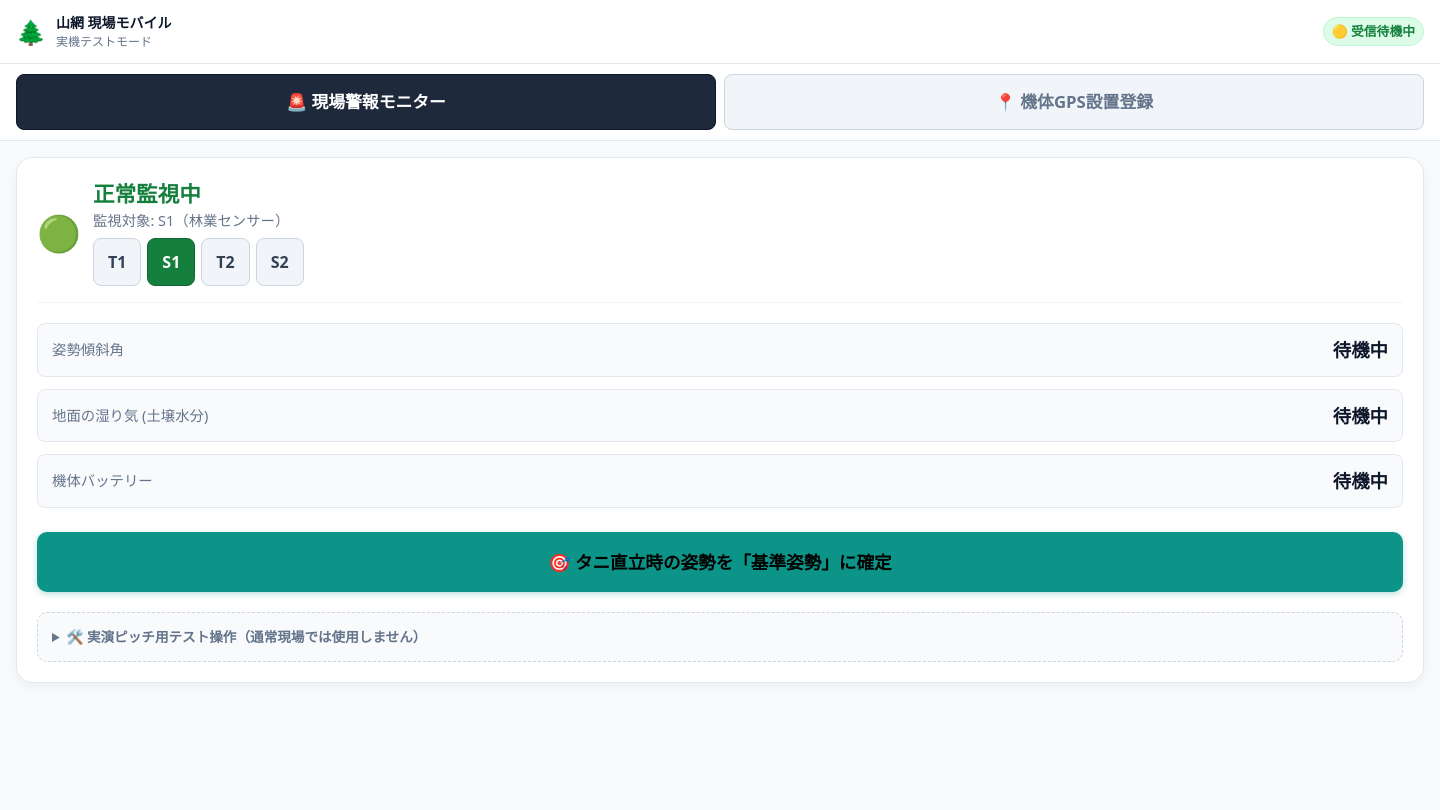
Scenario: MobileHome › 未受信の実機テストモード（S1）では架空の 3280 mV / 1420 ADC を表示せず、基準確定も拒否する (Issue #27)
Click the button "🎯 タニ直立時の姿勢を「基準姿勢」に確定". click: coordinates (720, 562)
box: x1=37 y1=532 x2=1403 y2=592
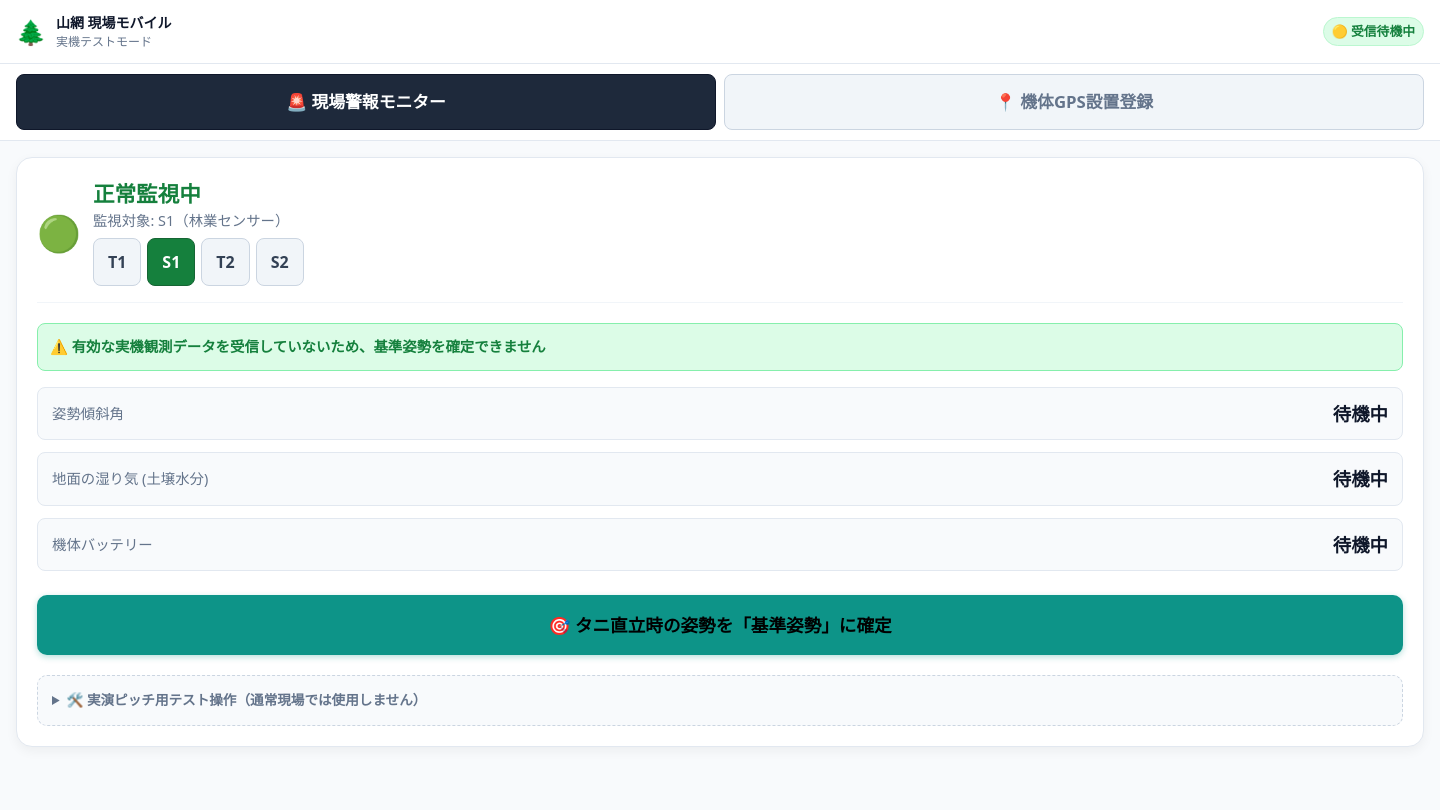
Result: the text "⚠️ 有効な実機観測データを受信していないため、基準姿勢を確定できません" is shown at x1=37 y1=323 x2=1403 y2=371
